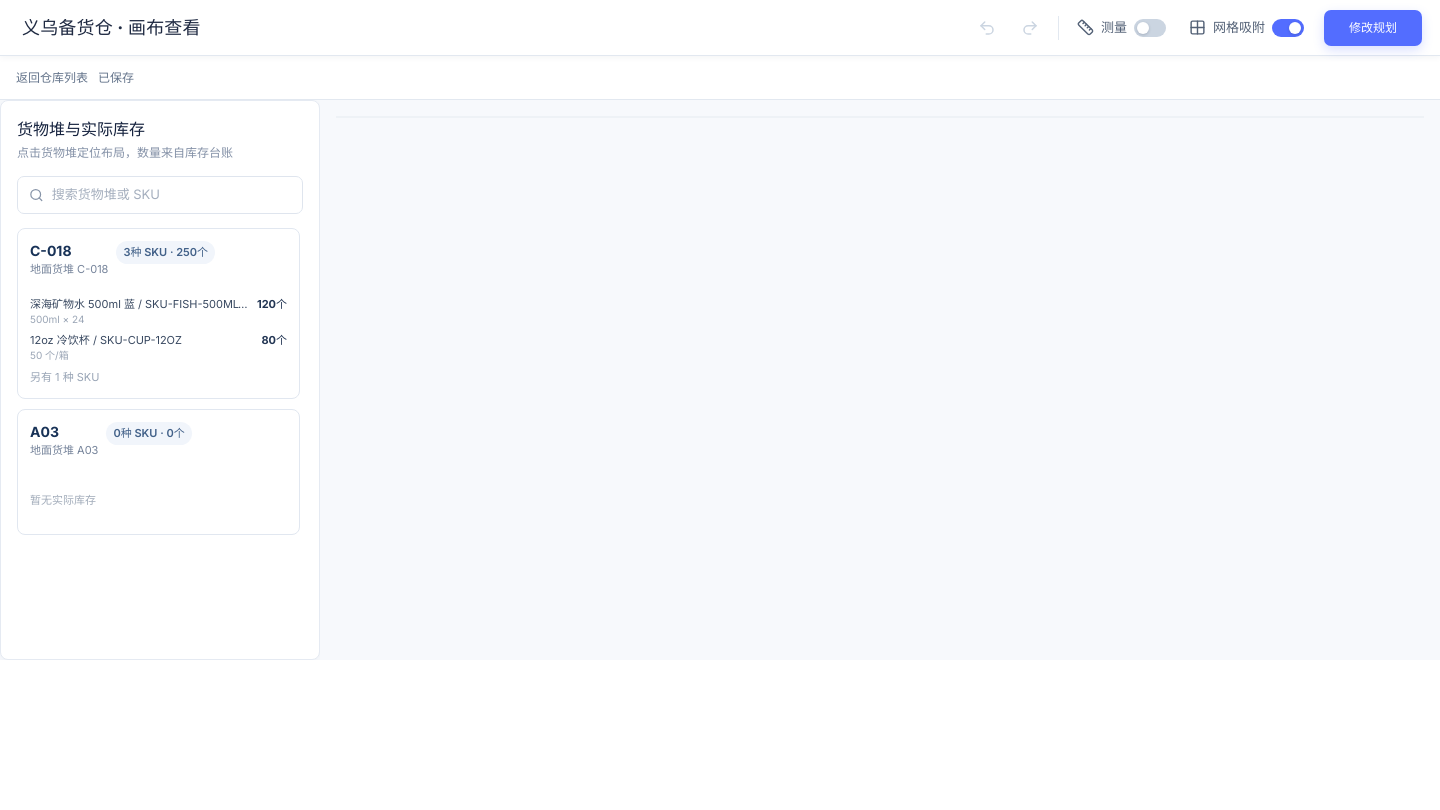
Test case: Warehouse canvas overview › replaces the displayed inventory with the authoritative allocation layout
Click the button with test id "inventory-pile-pallet-a03": point(64, 450) [17,409,300,535]
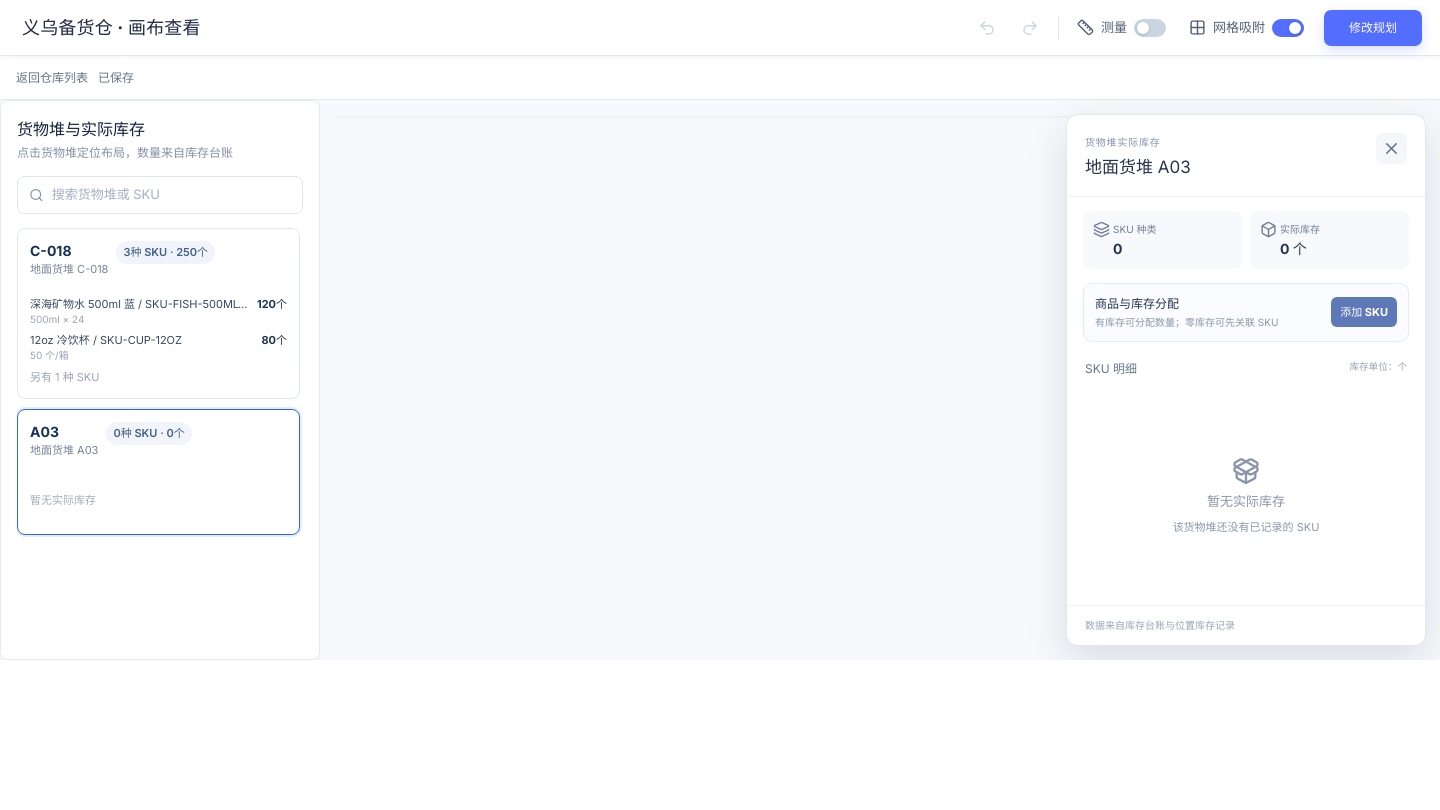
Click the button with test id "inventory-add-sku": point(1364, 312) [1331,297,1397,327]
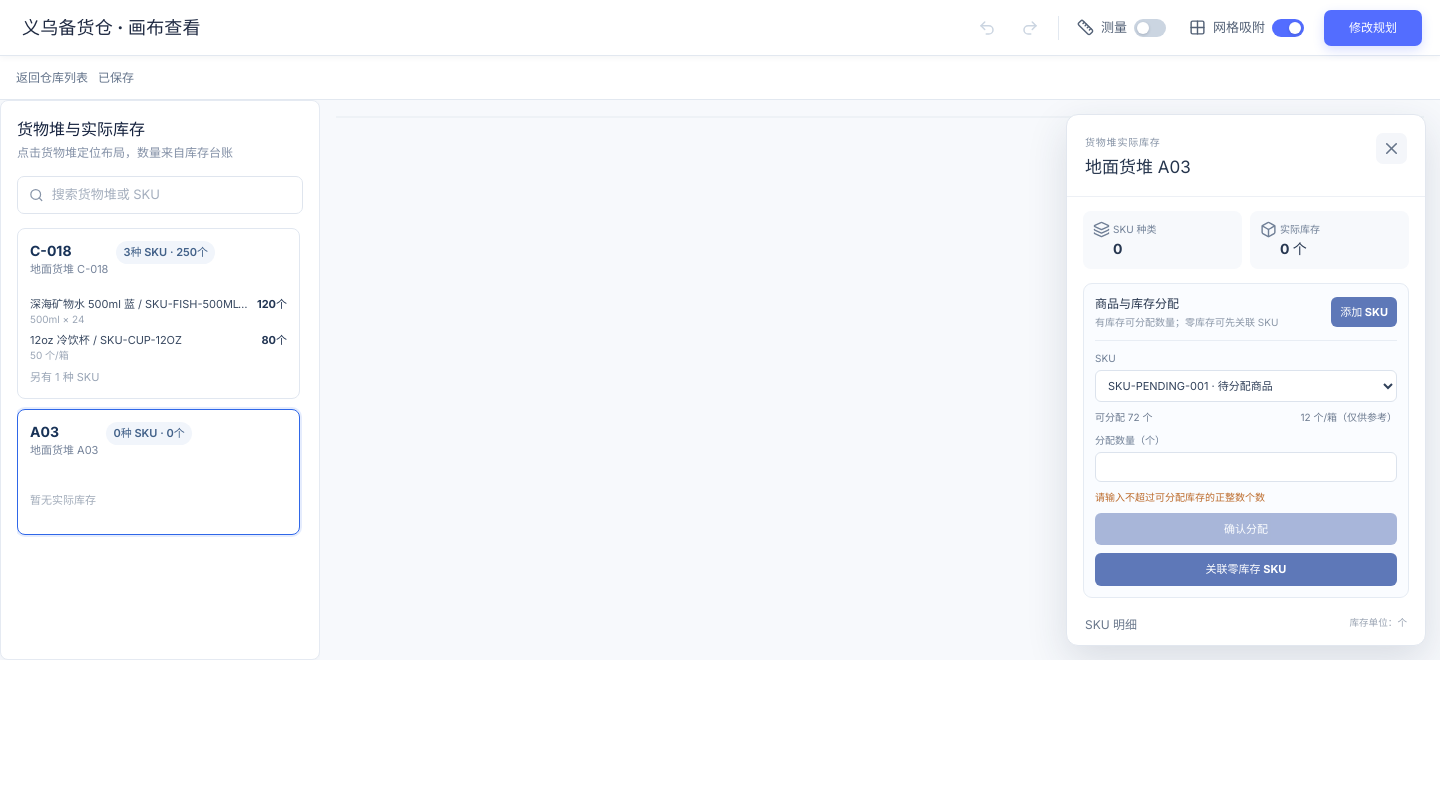
In the number field with test id "inventory-allocation-units": point(1246, 466) [1095,452,1397,482], type "24"
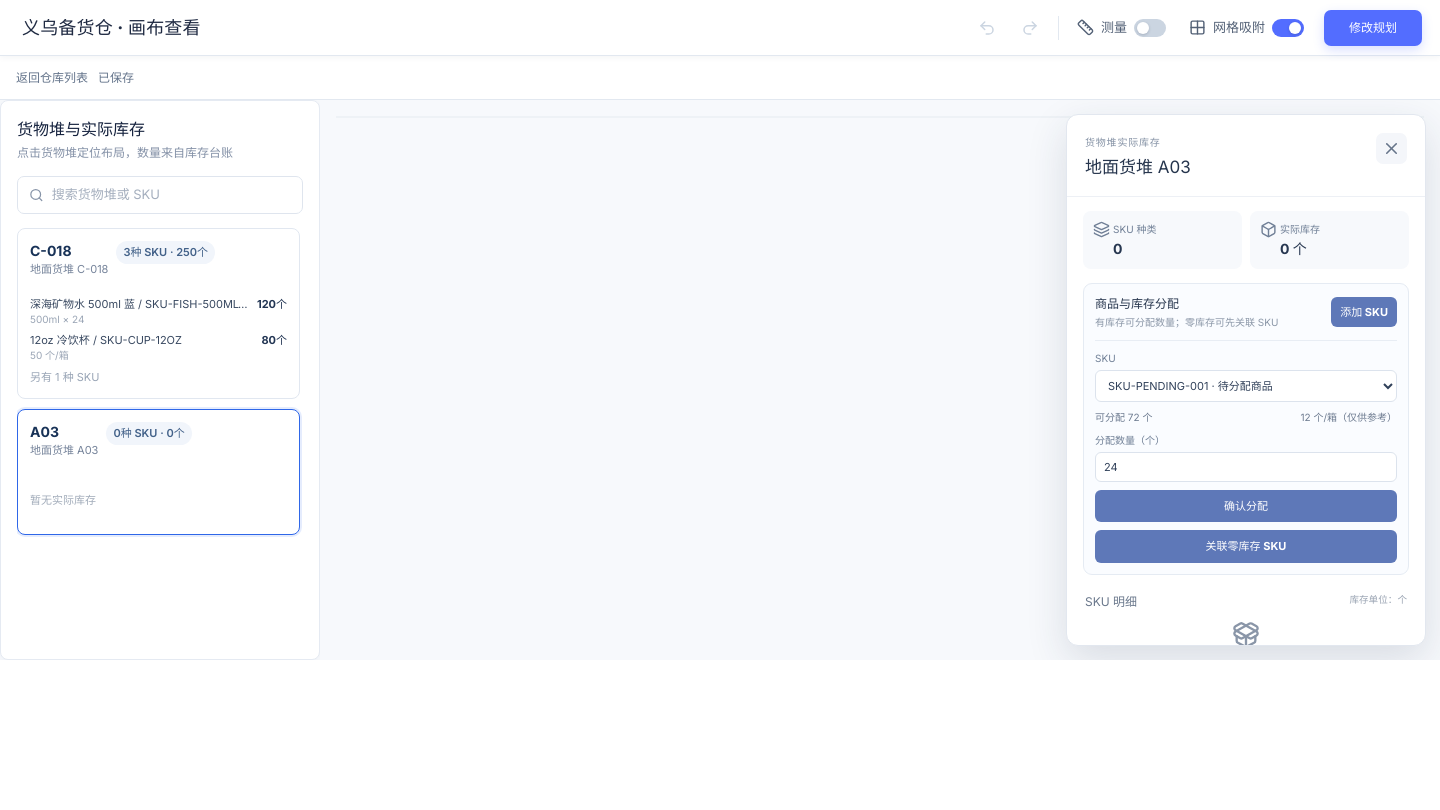
Submit the form with test id "inventory-allocation-form", box [1095,340,1397,562]
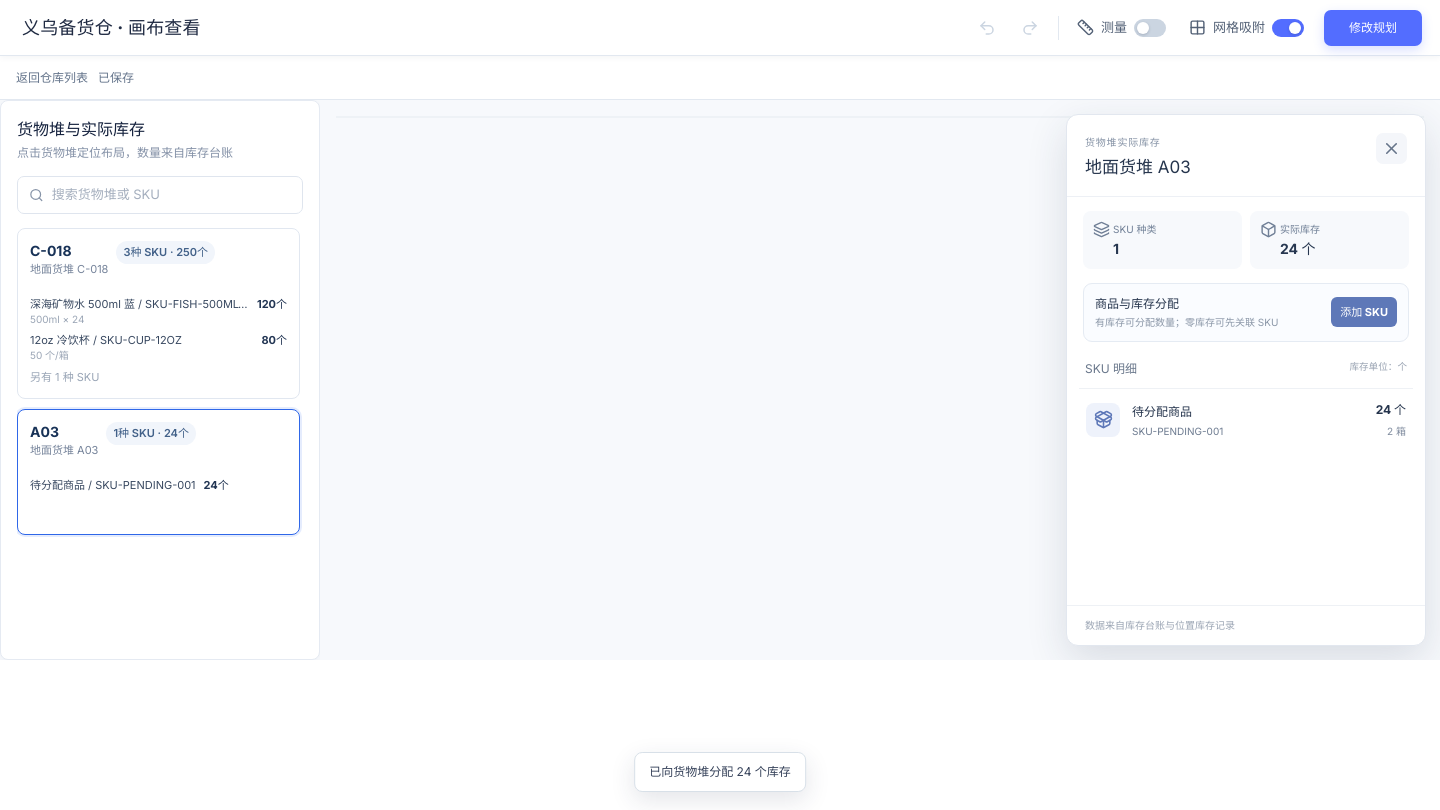
Now the heading with test id "inventory-detail-title" shows "A03", box [1085,157,1191,177]
Now the button with test id "inventory-pile-pallet-a03" shows "1种 SKU · 24个", box [17,409,300,535]
Now the element with test id "inventory-detail-sku" shows "24 个", box [1376,402,1406,416]
